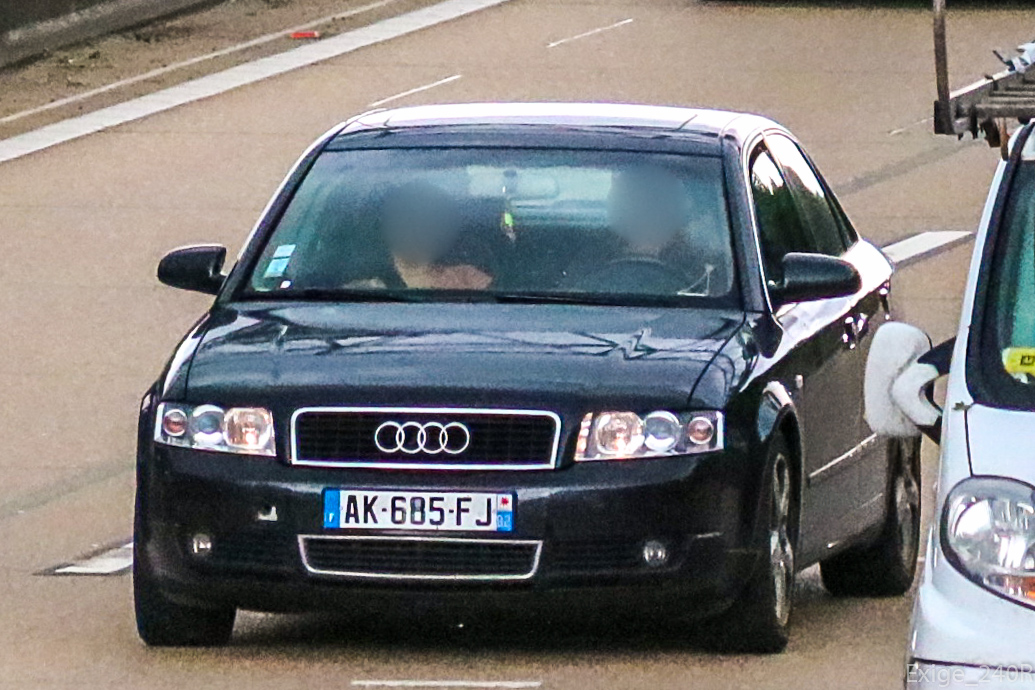licence plate: (319, 481, 518, 535)
